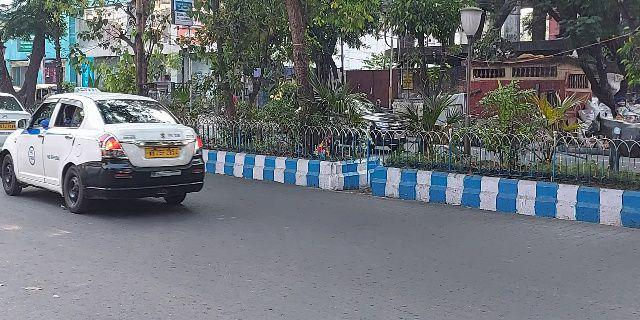Car: (1, 88, 208, 217)
